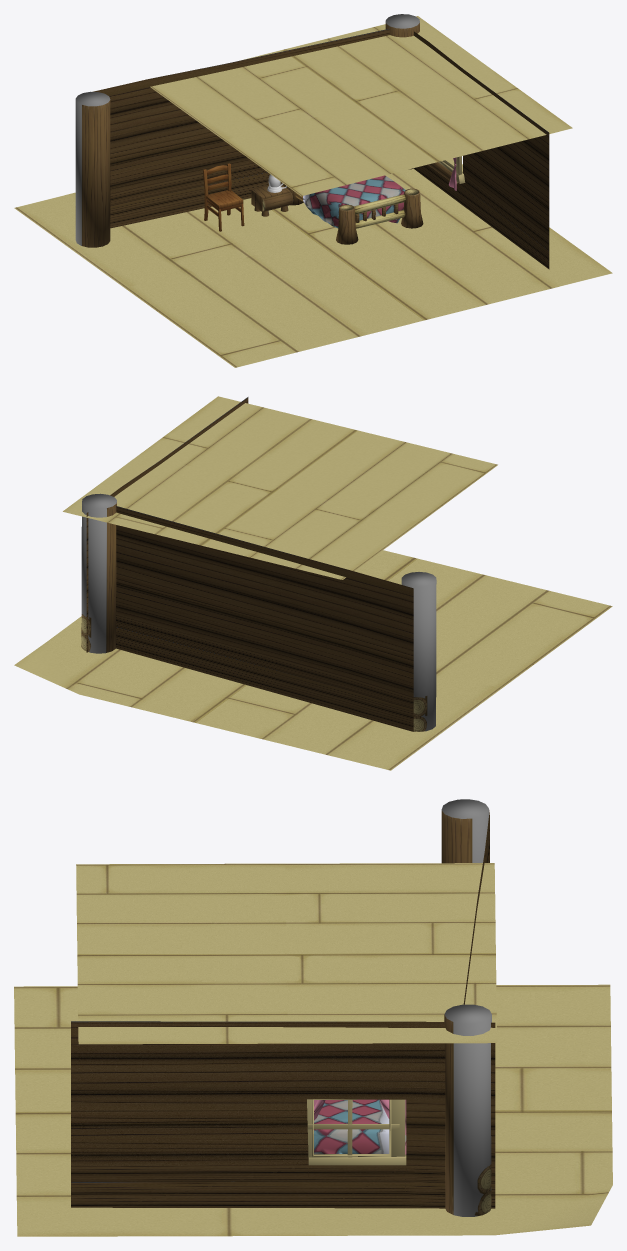
File: bedroom_v3.fbx
3 views of the same model, one above another, from view 1: azimuth 30°, elevation 25°; view 2: azimuth 150°, elevation 25°; view 3: azimuth 270°, elevation 25° (orthographic). The views are drawn at different scales.
Visible parts, largest first — view 1: room, wall2.002, wall2.001, MultiEdit.001, blanket, New Geometry.002, chair__2_, dresser; view 2: room, wall2.002, MultiEdit.001, wall2.001; view 3: room, wall2.001, MultiEdit.001, window, blanket.
Boxes of the visible parts, left/top/right/bottom form: room: left=14, top=16, right=612, bottom=367; wall2.002: left=92, top=28, right=389, bottom=228; wall2.001: left=413, top=31, right=549, bottom=269; MultiEdit.001: left=75, top=14, right=419, bottom=247; blanket: left=303, top=175, right=405, bottom=228; New Geometry.002: left=284, top=184, right=423, bottom=244; chair__2_: left=203, top=163, right=244, bottom=231; dresser: left=251, top=184, right=293, bottom=216; room: left=14, top=396, right=612, bottom=770; wall2.002: left=116, top=506, right=413, bottom=731; MultiEdit.001: left=81, top=493, right=436, bottom=731; wall2.001: left=86, top=397, right=248, bottom=652; room: left=14, top=863, right=612, bottom=1236; wall2.001: left=71, top=1021, right=495, bottom=1208; MultiEdit.001: left=441, top=799, right=491, bottom=1216; window: left=307, top=1099, right=406, bottom=1165; blanket: left=314, top=1099, right=389, bottom=1154.
Bounding box in the file's own units: 472 × 175 × 473.
